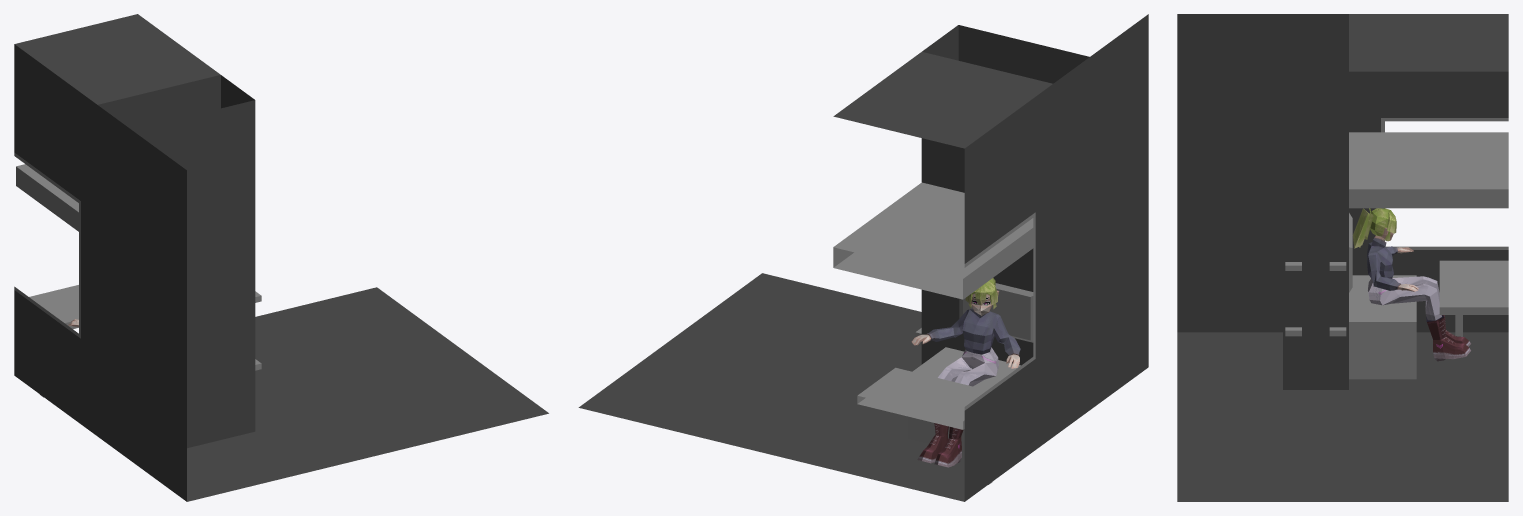
Rendered from Scene_1_placeholder.gltf.
The picture shows the model from 3 angles, left to right: view 1: azimuth 30°, elevation 25°; view 2: azimuth 150°, elevation 25°; view 3: azimuth 270°, elevation 25°; orthographic projection. The views are drawn at different scales.
Parts seen in each view (by area): view 1: train; view 2: train, Shum_MC_model.002; view 3: train, Shum_MC_model.002.
Boxes of the visible parts, box(x1,y1,x2,y2) form: train: box(14, 14, 548, 501); train: box(578, 14, 1148, 501); Shum_MC_model.002: box(911, 278, 1020, 467); train: box(1177, 14, 1508, 501); Shum_MC_model.002: box(1352, 208, 1470, 361).
Size of the model in its own units: 3.71 by 3.26 by 3.06.
Materials: 4 (4 with a texture image).
